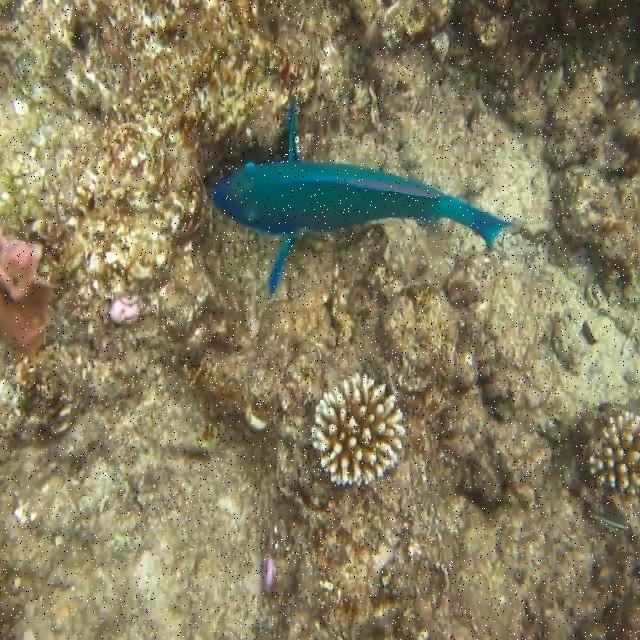fish: (213, 102, 513, 297)
reefs: (311, 373, 405, 486), (0, 235, 61, 363), (588, 410, 639, 495)
